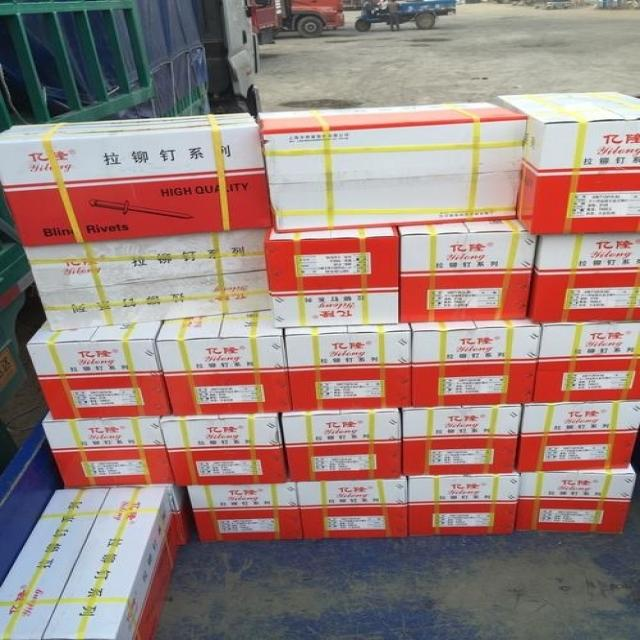box: (0, 112, 271, 247), (257, 102, 525, 233), (1, 486, 179, 640), (24, 229, 270, 332), (493, 91, 640, 234), (154, 309, 292, 415), (27, 320, 172, 420), (398, 219, 536, 323), (266, 225, 399, 327), (412, 318, 541, 408), (284, 324, 411, 411), (41, 410, 174, 486), (529, 233, 640, 321), (282, 408, 402, 483), (164, 414, 288, 486), (516, 401, 640, 471), (403, 404, 521, 476), (534, 322, 640, 402), (517, 463, 636, 533), (65, 484, 192, 545), (408, 474, 518, 537), (187, 483, 302, 542), (297, 479, 407, 538)
